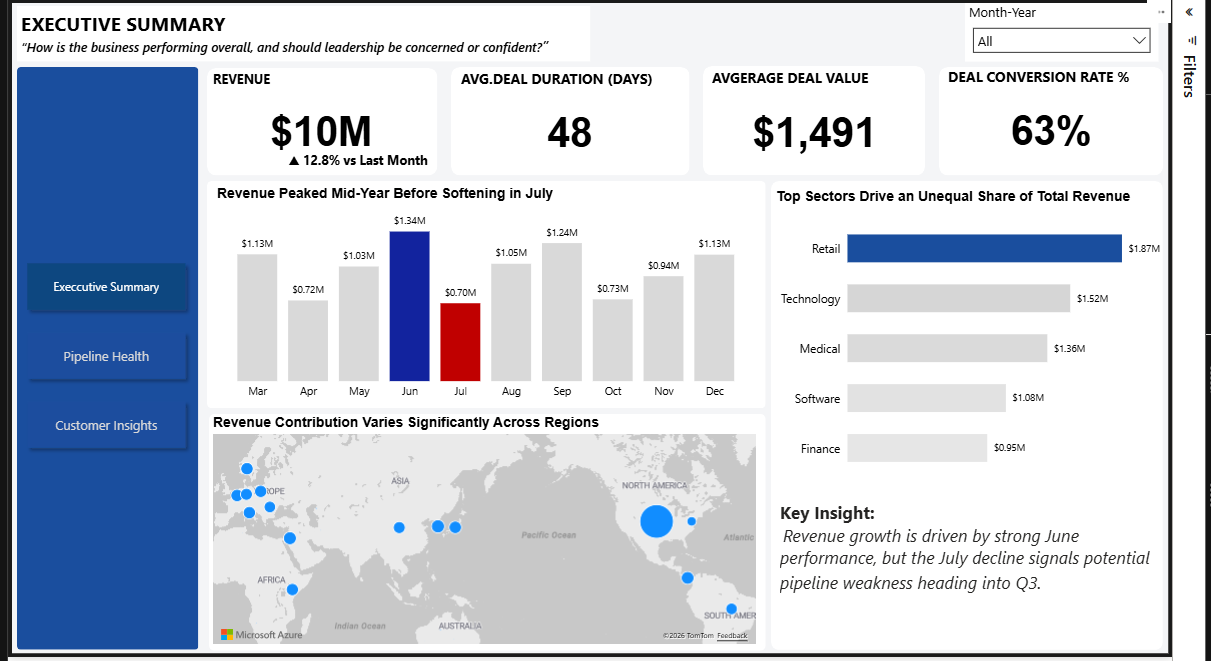

The page's visual inventory and layout, read from the dashboard file:
{"tool":"powerbi","page":{"name":"Execcutive  Summary","canvas":[1450,820],"ordinal":7},"visuals":[{"type":"shape","box":[0,0,1450.4,819.9],"z":0},{"type":"shape","box":[866.2,83.1,276.6,136.4],"z":1000},{"type":"textbox","box":[11.2,8.7,674.5,64.8],"z":2000},{"type":"shape","box":[551.9,84.8,297.4,135.1],"z":3000},{"type":"shape","box":[1159.7,85.3,279.2,135.1],"z":4000},{"type":"shape","box":[248.1,85.7,287,133.8],"z":5000},{"type":"shape","box":[950.6,227.3,488.3,584.4],"z":6000},{"type":"shape","box":[248.1,227.3,696.1,283.1],"z":7000},{"type":"shape","box":[250.6,516.9,693.5,294.8],"z":8000},{"type":"clusteredColumnChart","title":"Revenue Peaked Mid-Year Before Softening in July","fields":{"Y":["DAX_measures.Total Revenue"],"Category":["dim_Date.Month Name"]},"box":[255.8,231.2,680.5,275.3],"z":9000},{"type":"azureMap","title":"Revenue Contribution Varies Significantly Across Regions","fields":{"Category":["dim_accounts.Office_Location"],"Size":["DAX_measures.Total Revenue"]},"box":[250.6,516.9,685.7,290.9],"z":10000},{"type":"card","title":"REVENUE","fields":{"Values":["DAX_measures.Total Revenue"]},"box":[250.6,88.5,279.3,125.9],"z":11000},{"type":"card","title":"AVG.DEAL DURATION (DAYS)","fields":{"Values":["DAX_measures.Average Close Days"]},"box":[559.7,87,281.8,129.9],"z":12000},{"type":"card","title":"AVGERAGE DEAL VALUE","fields":{"Values":["DAX_measures.Avg Deal Value"]},"box":[871.5,86,265.6,130.9],"z":13000},{"type":"card","title":"DEAL CONVERSION RATE %","fields":{"Values":["DAX_measures.Win Rate %"]},"box":[1166.2,84.4,267.5,129.9],"z":14000},{"type":"card","fields":{"Values":["DAX_measures.Revenue MoM Label"]},"box":[344.1,185.8,184.5,33.7],"z":15000},{"type":"textbox","box":[957,620.3,477,187.6],"z":16000},{"type":"clusteredBarChart","title":"Top Sectors Drive an Unequal Share of Total Revenue","fields":{"Category":["dim_accounts.Sector"],"Y":["DAX_measures.Total Revenue"]},"box":[951.1,234.8,488.9,373.7],"z":17000},{"type":"shape","title":"Navigator BG","box":[11.7,84.4,226,726],"z":18000},{"type":"pageNavigator","box":[20,350,210,250],"z":19000},{"type":"slicer","title":"Month-Year","fields":{"Values":["dim_Date.Month Year"]},"box":[1192.2,5.2,241.3,72.6],"z":20000}]}

Visuals, with their boxes on the page's 1450x820 design canvas (x1, y1, x2, y2). These are canvas units, not pixel positions in the 1211x661 screenshot, which may show the page scaled, cropped or inside an application window:
shape: bbox(0, 0, 1450, 820)
shape: bbox(866, 83, 1143, 220)
textbox: bbox(11, 9, 686, 74)
shape: bbox(552, 85, 849, 220)
shape: bbox(1160, 85, 1439, 220)
shape: bbox(248, 86, 535, 220)
shape: bbox(951, 227, 1439, 812)
shape: bbox(248, 227, 944, 510)
shape: bbox(251, 517, 944, 812)
"Revenue Peaked Mid-Year Before Softening in July" clusteredColumnChart: bbox(256, 231, 936, 506)
"Revenue Contribution Varies Significantly Across Regions" azureMap: bbox(251, 517, 936, 808)
"REVENUE" card: bbox(251, 88, 530, 214)
"AVG.DEAL DURATION (DAYS)" card: bbox(560, 87, 842, 217)
"AVGERAGE DEAL VALUE" card: bbox(872, 86, 1137, 217)
"DEAL CONVERSION RATE %" card: bbox(1166, 84, 1434, 214)
card - DAX_measures.Revenue MoM Label: bbox(344, 186, 529, 220)
textbox: bbox(957, 620, 1434, 808)
"Top Sectors Drive an Unequal Share of Total Revenue" clusteredBarChart: bbox(951, 235, 1440, 608)
"Navigator BG" shape: bbox(12, 84, 238, 810)
pageNavigator: bbox(20, 350, 230, 600)
"Month-Year" slicer: bbox(1192, 5, 1434, 78)
